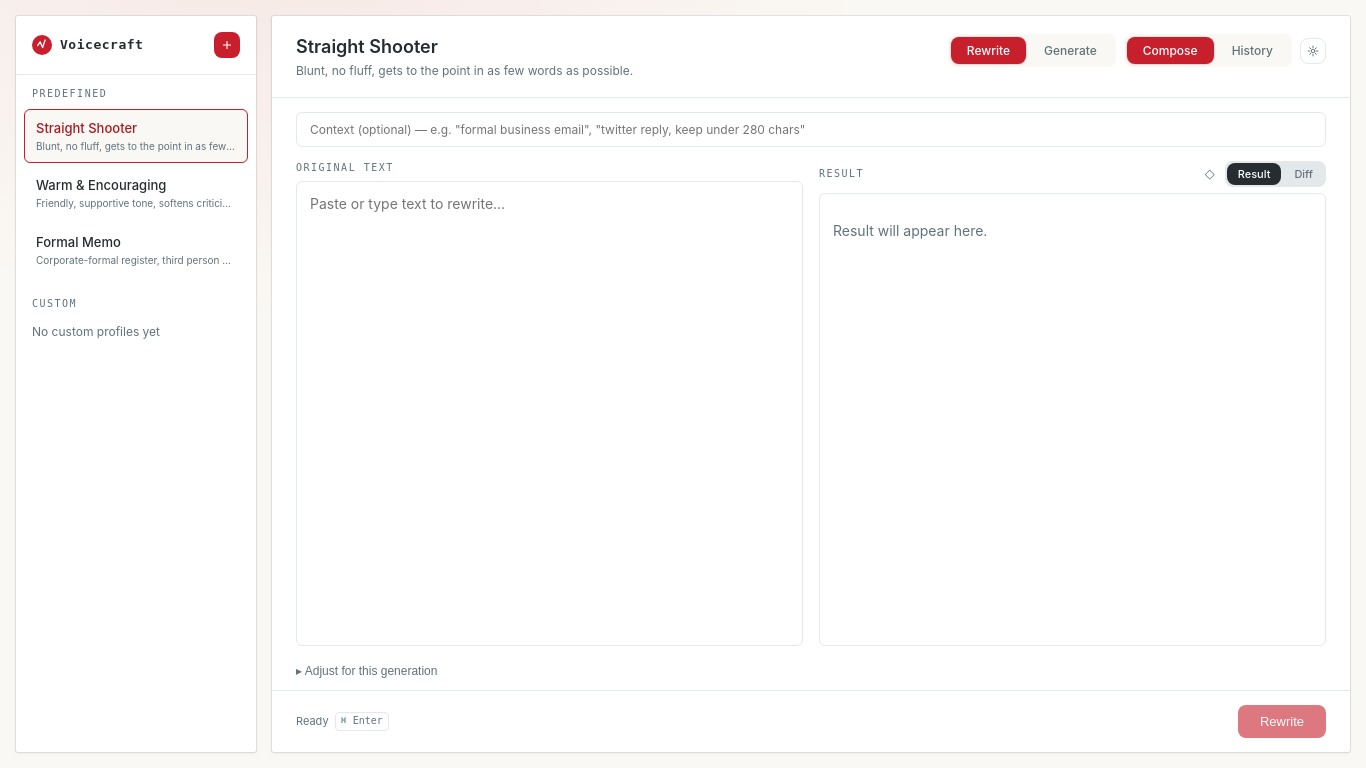
Test: App › copies the result to the clipboard and shows a toast
In the text box with placeholder "Paste or type text to rewrite...": coordinates (550, 414) [296, 181, 803, 646], type "hey there"
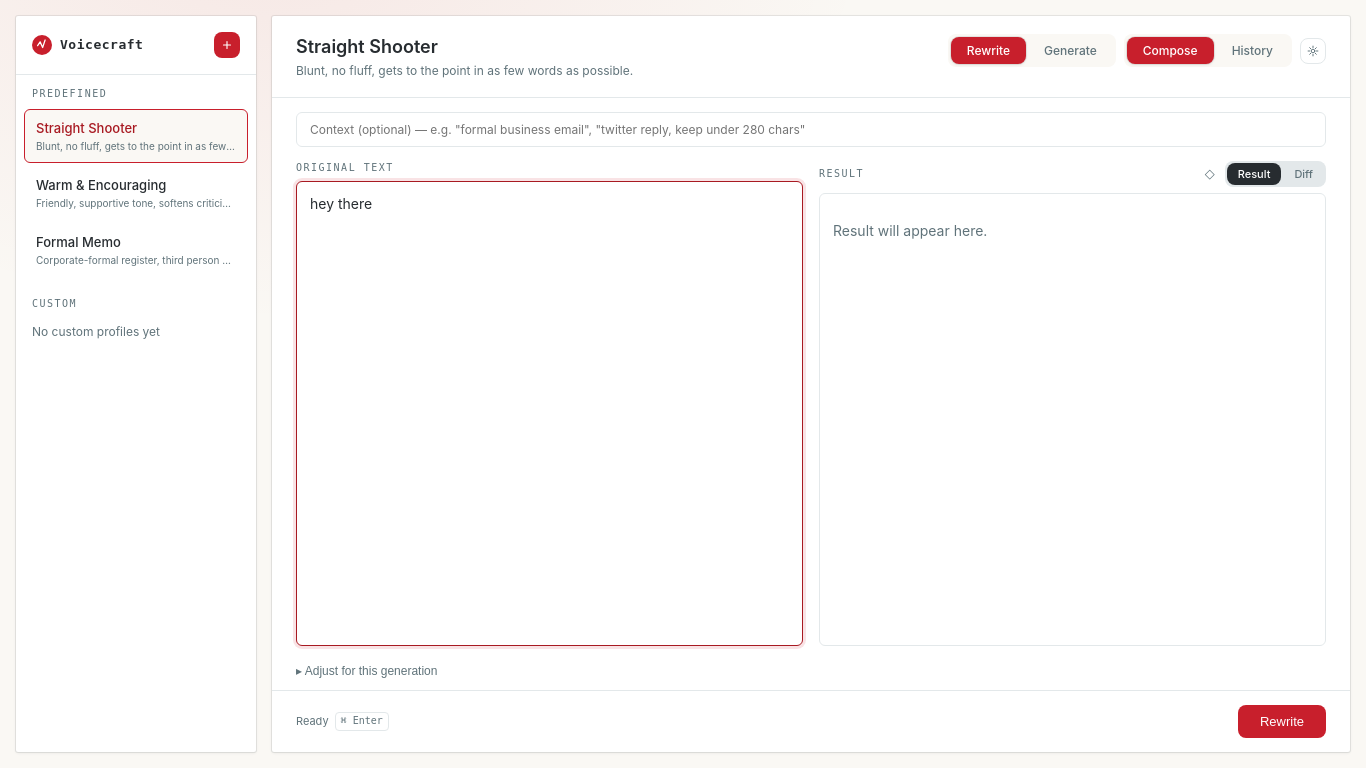
Click the button with test id "run-btn": coordinates (1282, 722) [1238, 705, 1326, 738]
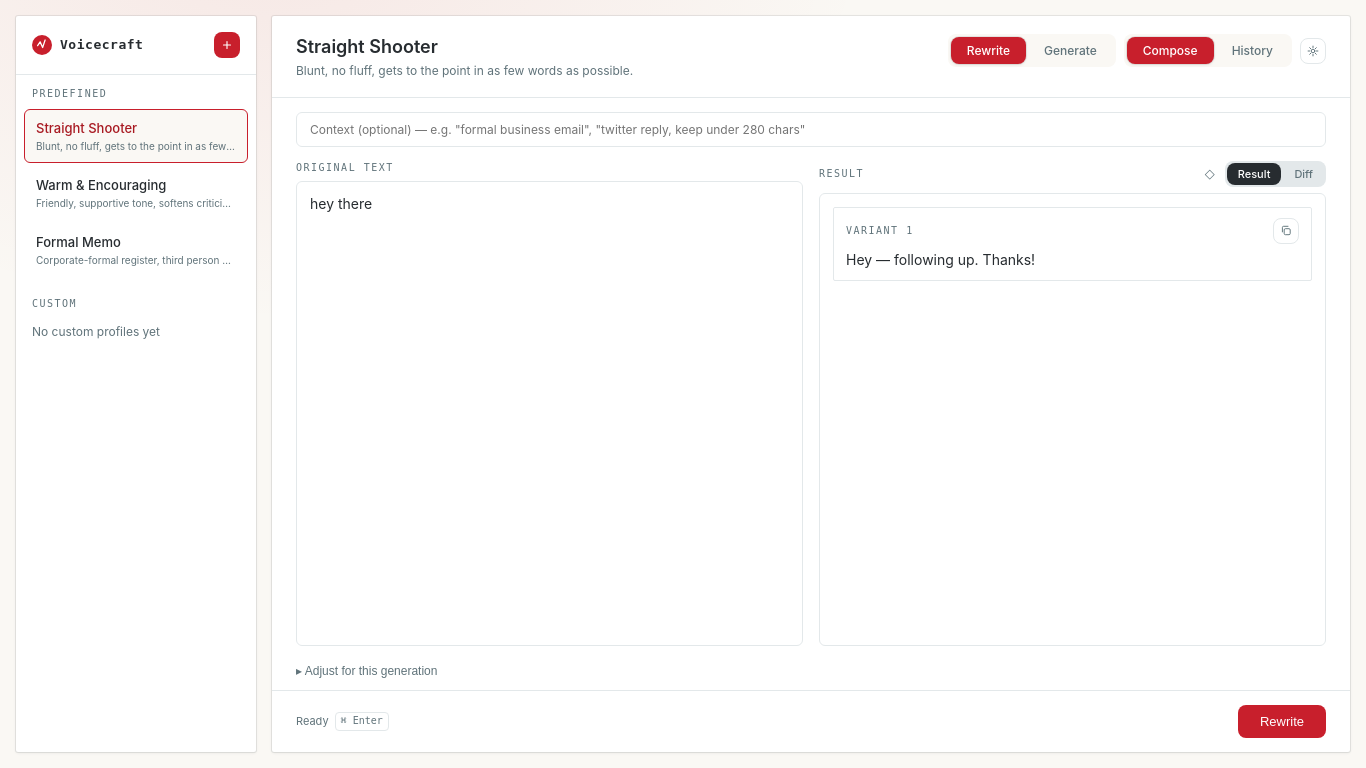
expect the text "Hey — following up. Thanks!" is shown: met, box [846, 251, 1035, 268]
Click the button titled "Copy variant 1": coordinates (1286, 231) [1273, 218, 1299, 244]
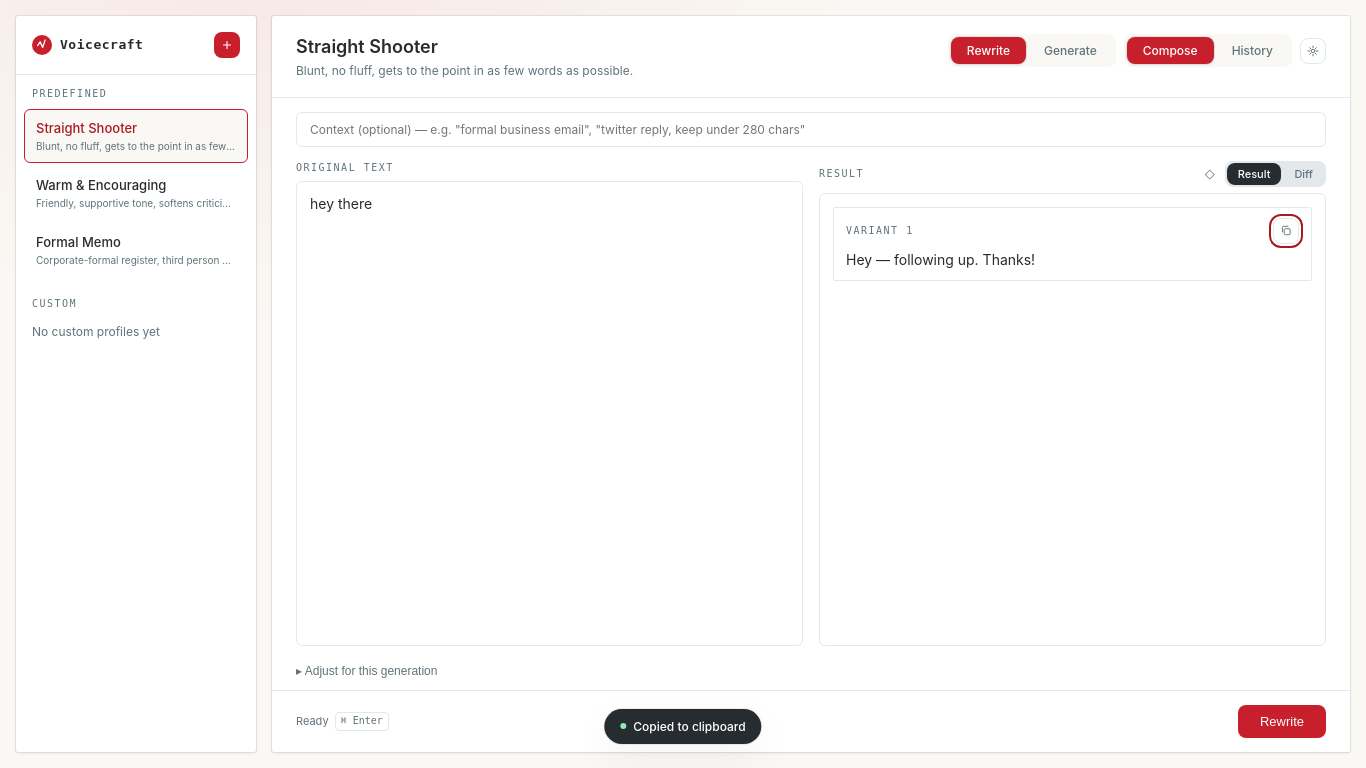
expect the text "Copied to clipboard" is shown: met, box [633, 718, 746, 735]
